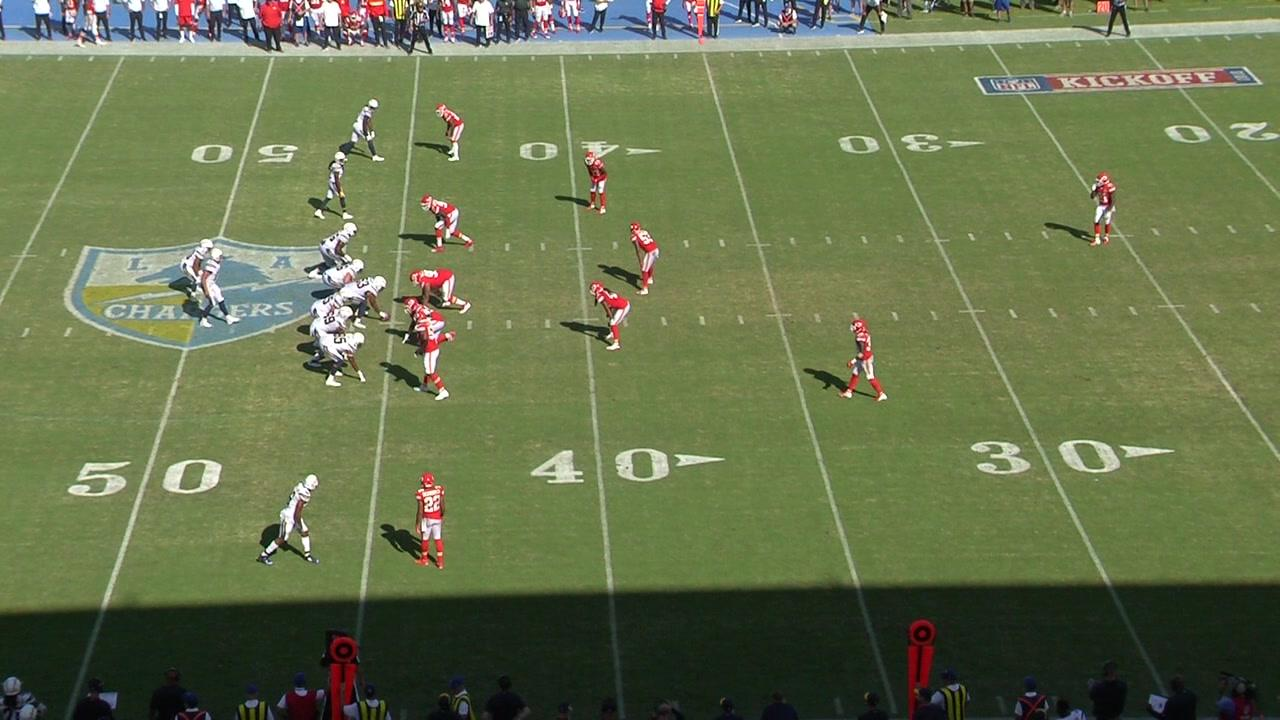defense: (840, 318, 887, 404), (411, 470, 451, 571), (411, 310, 453, 402), (419, 195, 474, 256), (588, 280, 632, 353), (401, 296, 457, 351), (410, 268, 472, 316), (1084, 172, 1121, 248), (627, 219, 660, 296), (433, 101, 465, 164), (578, 152, 610, 215)
oline: (334, 272, 390, 328), (308, 222, 359, 283), (309, 304, 356, 369), (309, 285, 358, 344), (325, 257, 365, 301)
qb: (200, 248, 241, 329)
ref: (316, 633, 369, 720), (405, 0, 433, 54), (1106, 0, 1133, 44)
skill: (257, 472, 319, 568), (312, 153, 353, 222), (320, 330, 367, 390), (347, 96, 386, 165), (178, 238, 213, 305)
